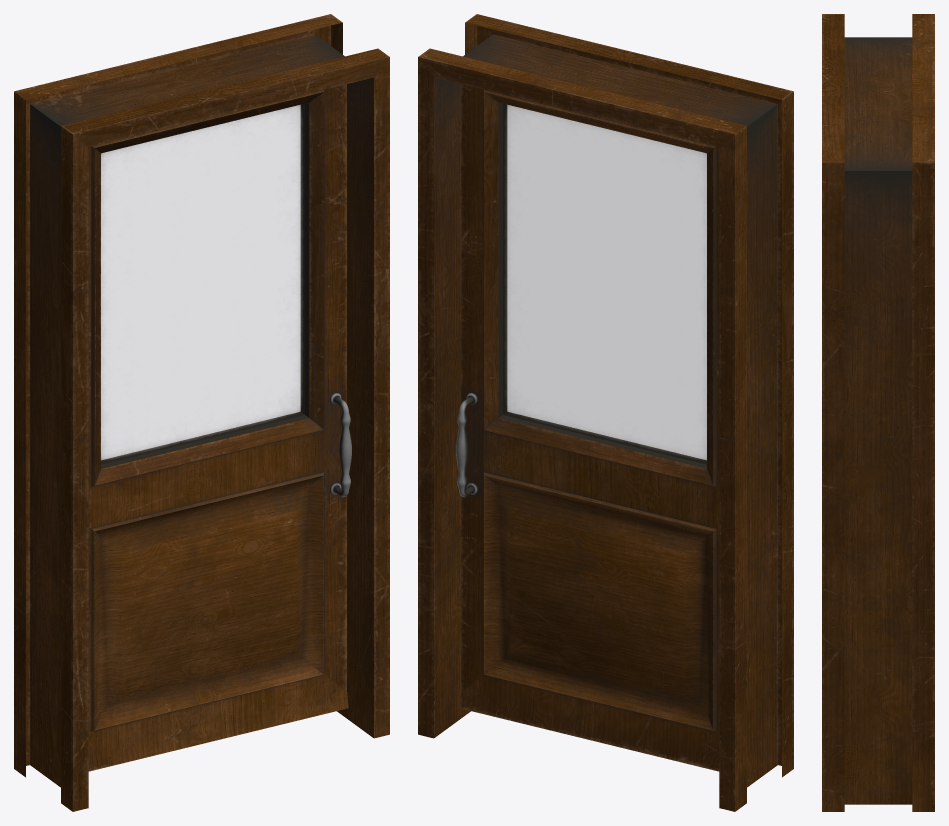
The model's file is door.glb.
3 renders of one model, left to right at view 1: azimuth 30°, elevation 25°; view 2: azimuth 150°, elevation 25°; view 3: azimuth 270°, elevation 25°, orthographic. The views are drawn at different scales.
Visible parts, largest first — view 1: Main_11m_0_1, Door00_50m_0_1, glass, Sweep; view 2: Main_11m_0_1, Door00_50m_0_1, glass, Sweep; view 3: Main_11m_0_1.
Part boxes in pixels (left/top/right/bottom): Main_11m_0_1: left=14, top=14, right=389, bottom=811; Door00_50m_0_1: left=88, top=84, right=348, bottom=771; glass: left=101, top=104, right=304, bottom=464; Sweep: left=329, top=392, right=351, bottom=497; Main_11m_0_1: left=418, top=14, right=793, bottom=811; Door00_50m_0_1: left=459, top=84, right=719, bottom=771; glass: left=503, top=104, right=706, bottom=464; Sweep: left=456, top=392, right=478, bottom=497; Main_11m_0_1: left=822, top=14, right=934, bottom=811.
Bounding box in the file's own units: 11.2 × 22.87 × 3.6.
2 materials, 2 textured.
